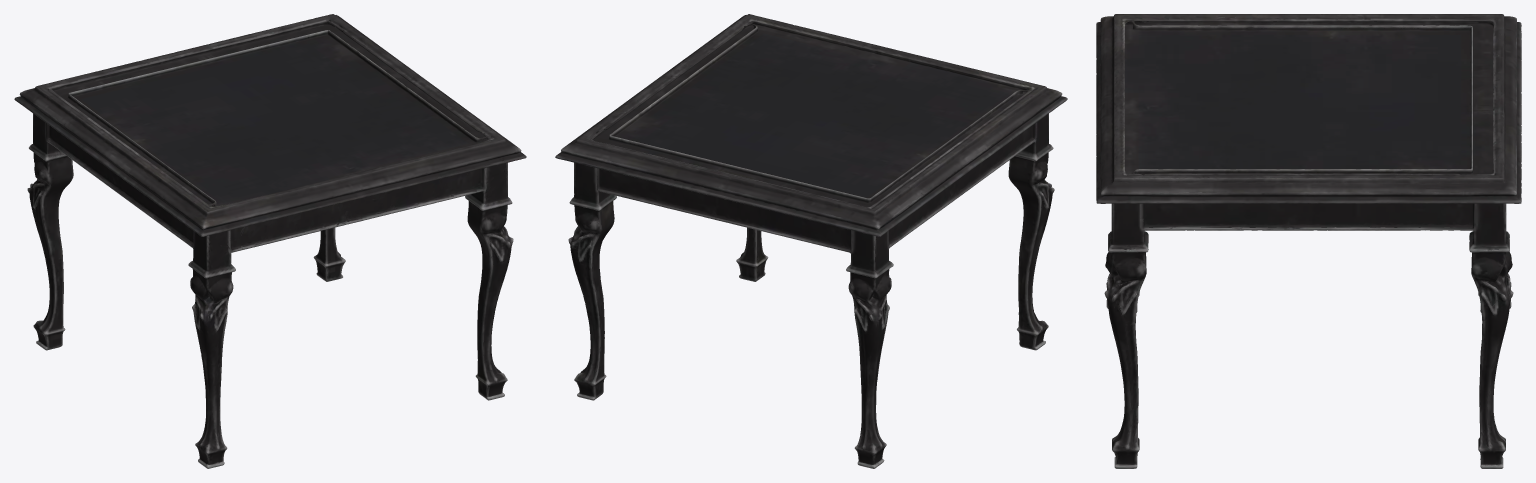
File: antenna.glb
3 views of the same model, side by side, from view 1: azimuth 30°, elevation 25°; view 2: azimuth 150°, elevation 25°; view 3: azimuth 270°, elevation 25° (orthographic). The views are drawn at different scales.
Visible parts, largest first — view 1: world; view 2: world; view 3: world.
Part boxes in pixels (x1,y1,x2,y2): world: (14,14,526,468); world: (555,14,1067,468); world: (1096,14,1521,468).
Bounding box in the file's own units: 1 × 0.7598 × 1.
1 material, 1 textured.
